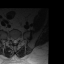CCS_normal: (14, 37, 16, 44)
LFS_normal: (17, 35, 19, 42)
LLS_normal: (16, 37, 18, 43)
RFS_normal: (11, 35, 12, 42)
RLS_normal: (12, 36, 14, 44)
